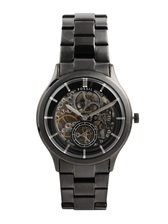watch: (33, 13, 141, 211)
